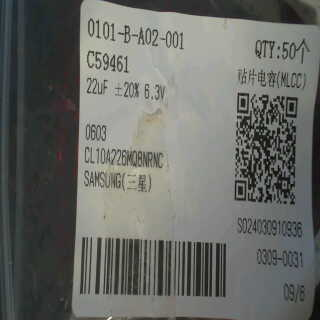22uF: (86, 77, 112, 96)
